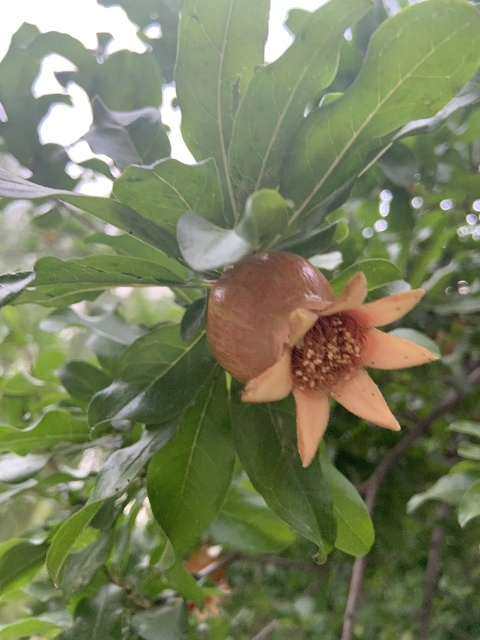early-fruit: (204, 250, 439, 467)
